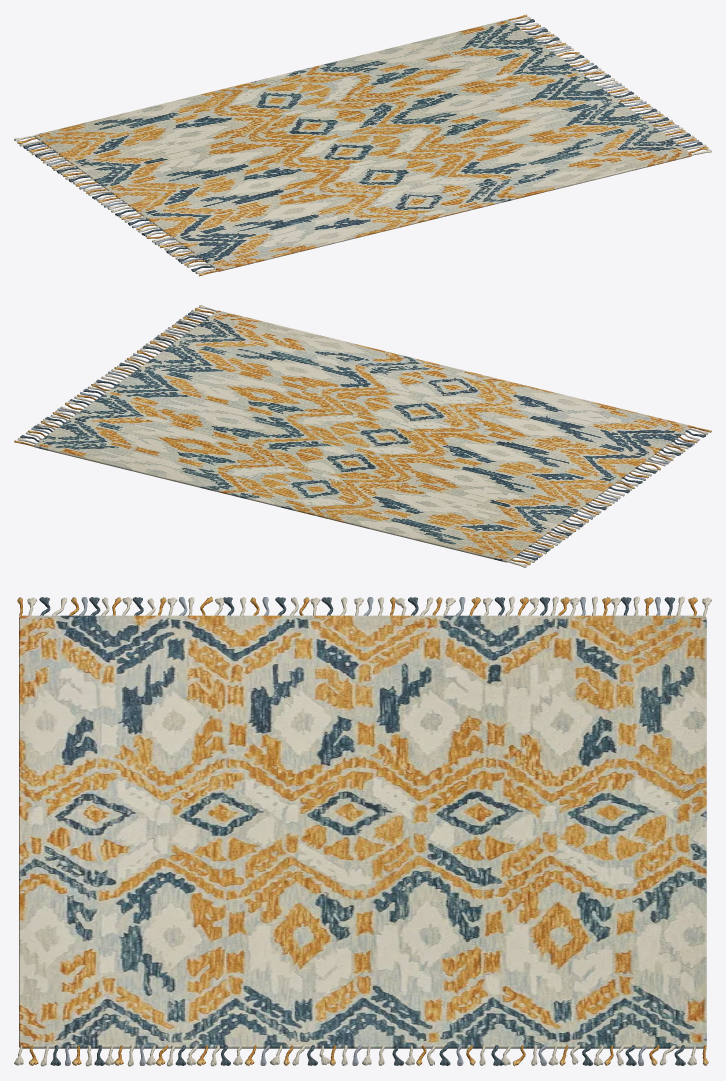
The model's file is abo-B0735XMSY9.glb.
3 renders of one model, top to bottom at view 1: azimuth 30°, elevation 25°; view 2: azimuth 150°, elevation 25°; view 3: azimuth 270°, elevation 25°, orthographic. The views are drawn at different scales.
Size of the model in its own units: 2.43 by 0.00993 by 1.53.
1 material, 1 textured.
